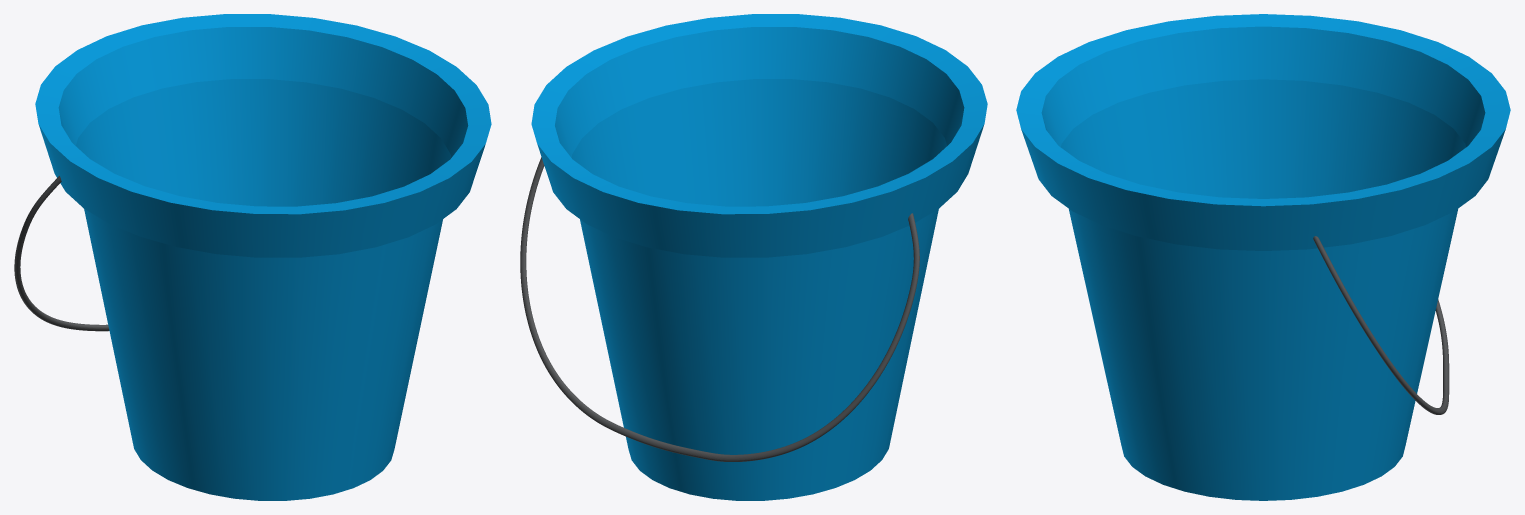
The model's file is Su Kovası.fbx.
3 views of the same model, side by side, from view 1: azimuth 30°, elevation 25°; view 2: azimuth 150°, elevation 25°; view 3: azimuth 270°, elevation 25° (orthographic).
Visible parts, largest first — view 1: Cylinder, Circle; view 2: Cylinder, Circle; view 3: Cylinder, Circle.
Boxes of the visible parts, <box> form: Cylinder: <box>35,14,491,500</box>; Circle: <box>14,176,109,331</box>; Cylinder: <box>531,14,987,500</box>; Circle: <box>520,157,919,461</box>; Cylinder: <box>1016,14,1510,500</box>; Circle: <box>1313,236,1449,414</box>.
Bounding box in the file's own units: 182 × 147 × 196.
